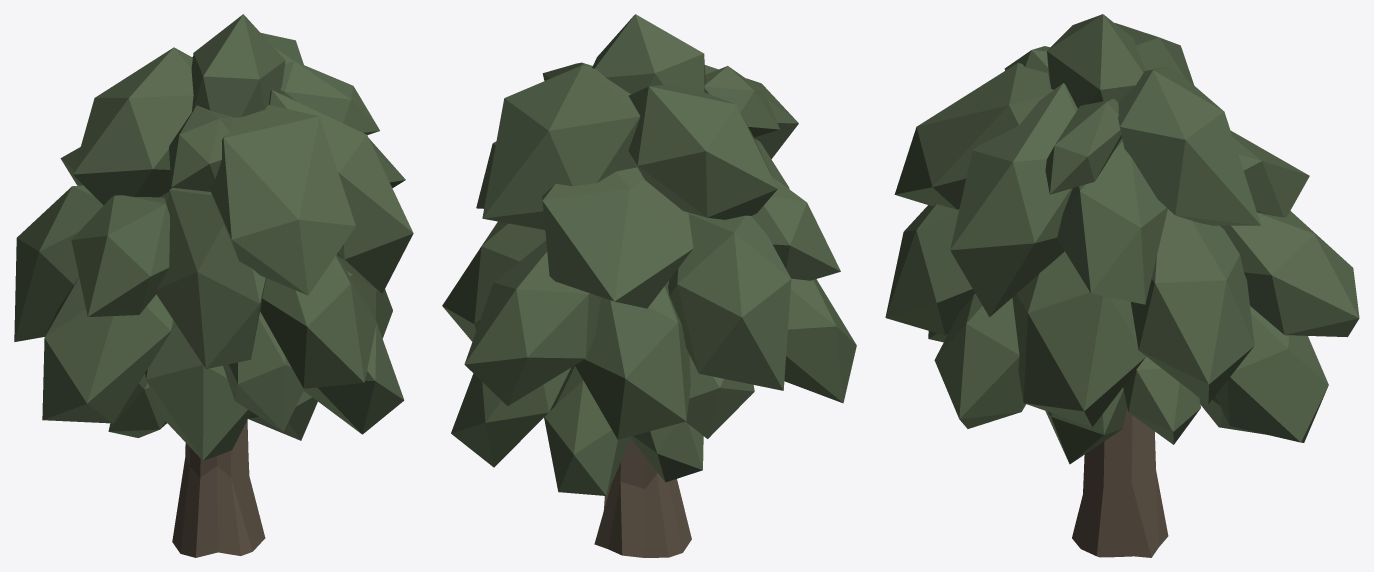
File: LeafTree1.fbx
3 views of the same model, side by side, from view 1: azimuth 30°, elevation 25°; view 2: azimuth 150°, elevation 25°; view 3: azimuth 270°, elevation 25° (orthographic). The views are drawn at different scales.
Parts seen in each view (by area): view 1: tree; view 2: tree; view 3: tree.
Part boxes in pixels (x1,y1,x2,y2): tree: (14,14,413,557); tree: (442,14,856,557); tree: (885,14,1359,557).
Bounding box in the file's own units: 626 × 875 × 699.
